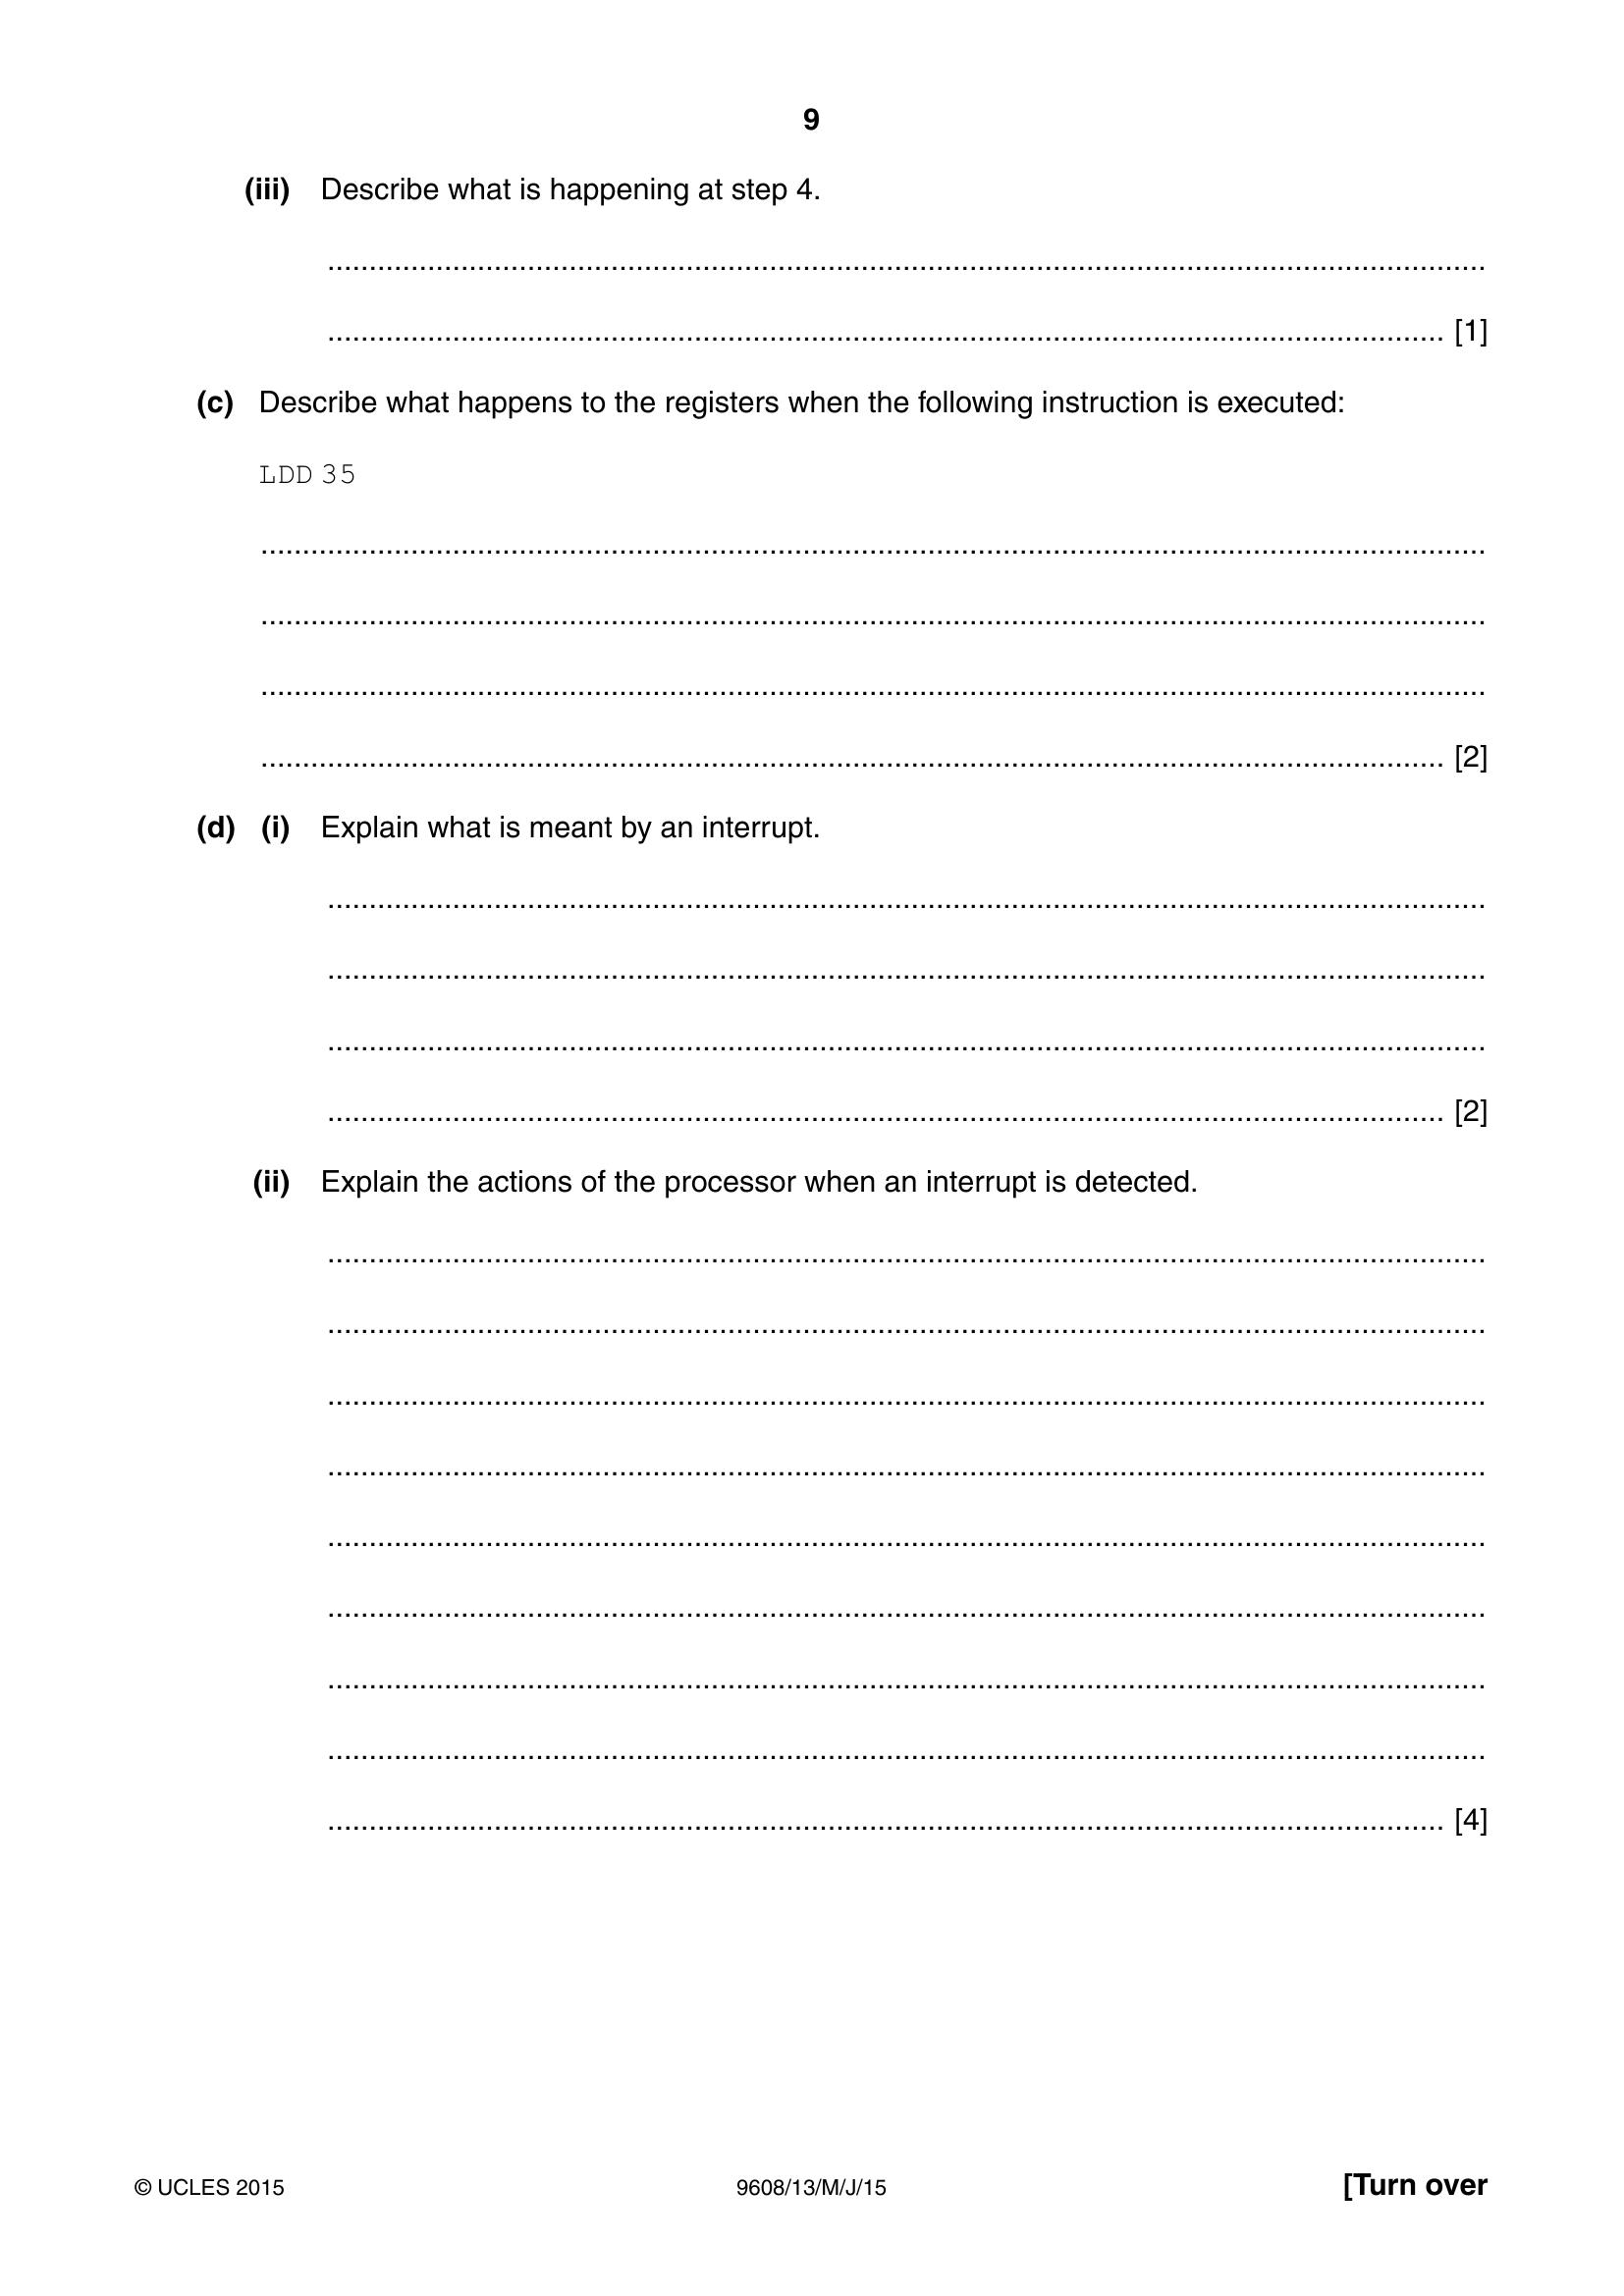continued question: (4, 149, 1620, 1883)
